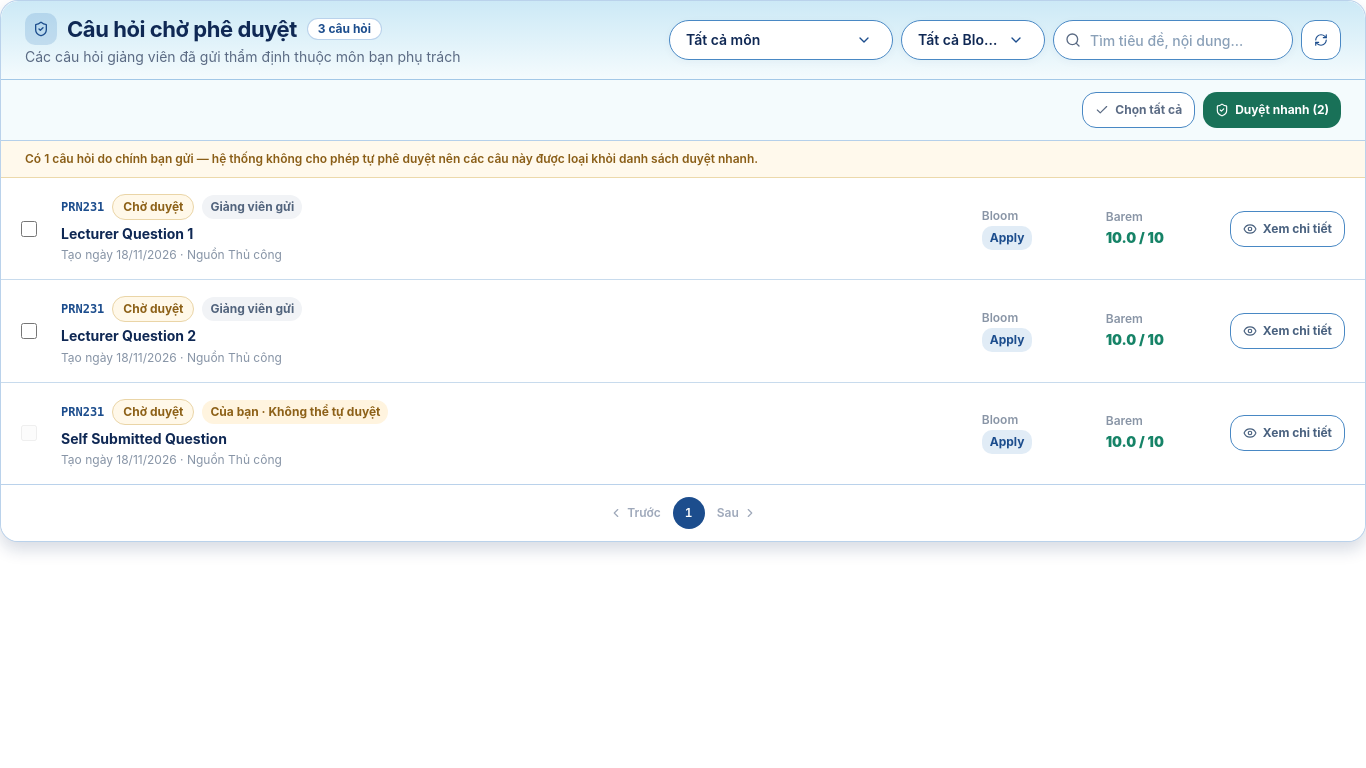
Test: QuestionStudioPage review queue & batch approval › excludes self-submitted questions from batch approve and disables self-approval in row & detail drawer
The width and height of the screenshot is (1366, 768).
Expected: the button "Duyệt nhanh (2)" is enabled, left=1203, top=92, right=1341, bottom=128
Expected: the checkbox named "Chọn câu hỏi Lecturer Question 1" is enabled, left=21, top=221, right=37, bottom=237
Click the heading "Self Submitted Question" at (144, 438), box left=61, top=430, right=227, bottom=446
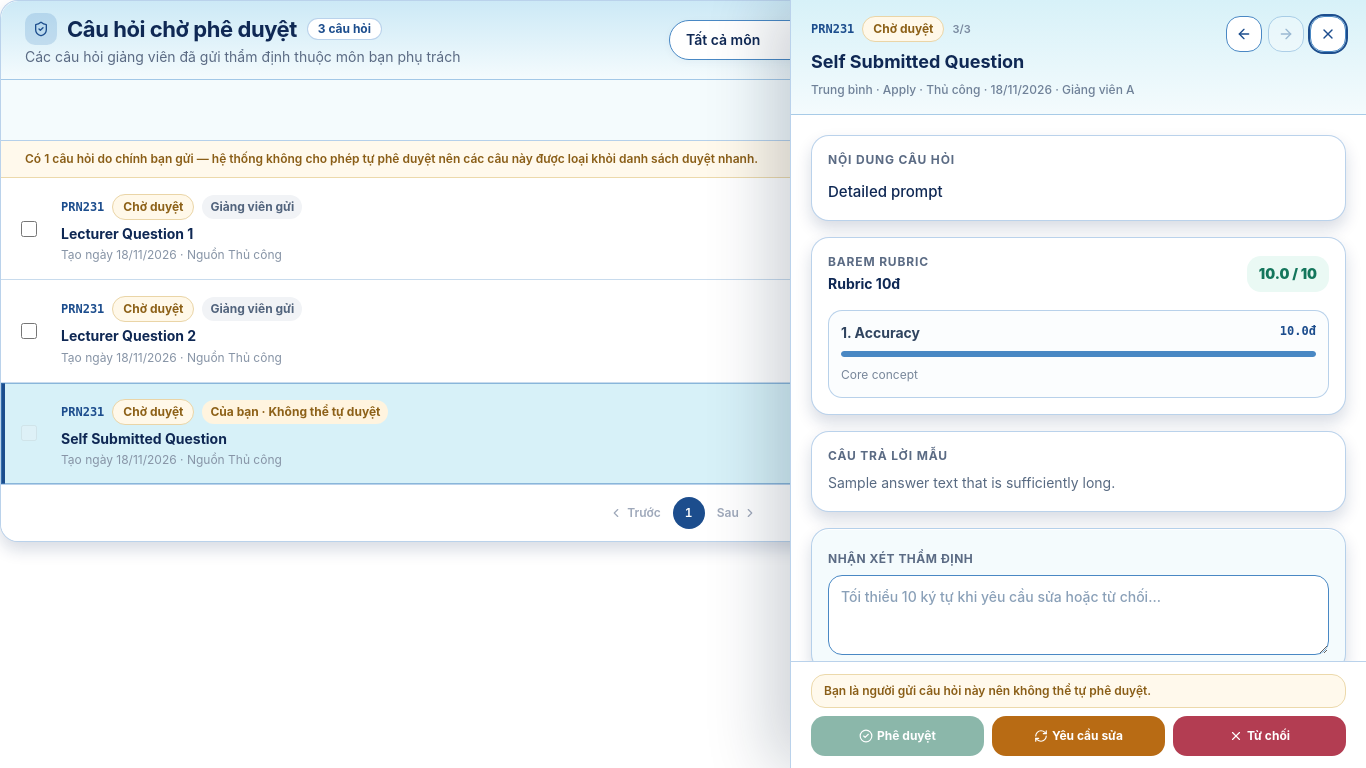
Now the text "Bạn là người gửi câu hỏi này nên không thể tự phê duyệt." is shown, box left=811, top=674, right=1346, bottom=708
Now the button "Phê duyệt" is disabled, box left=811, top=716, right=984, bottom=756
Click the heading "Lecturer Question 1" at (127, 234), box left=61, top=225, right=193, bottom=242
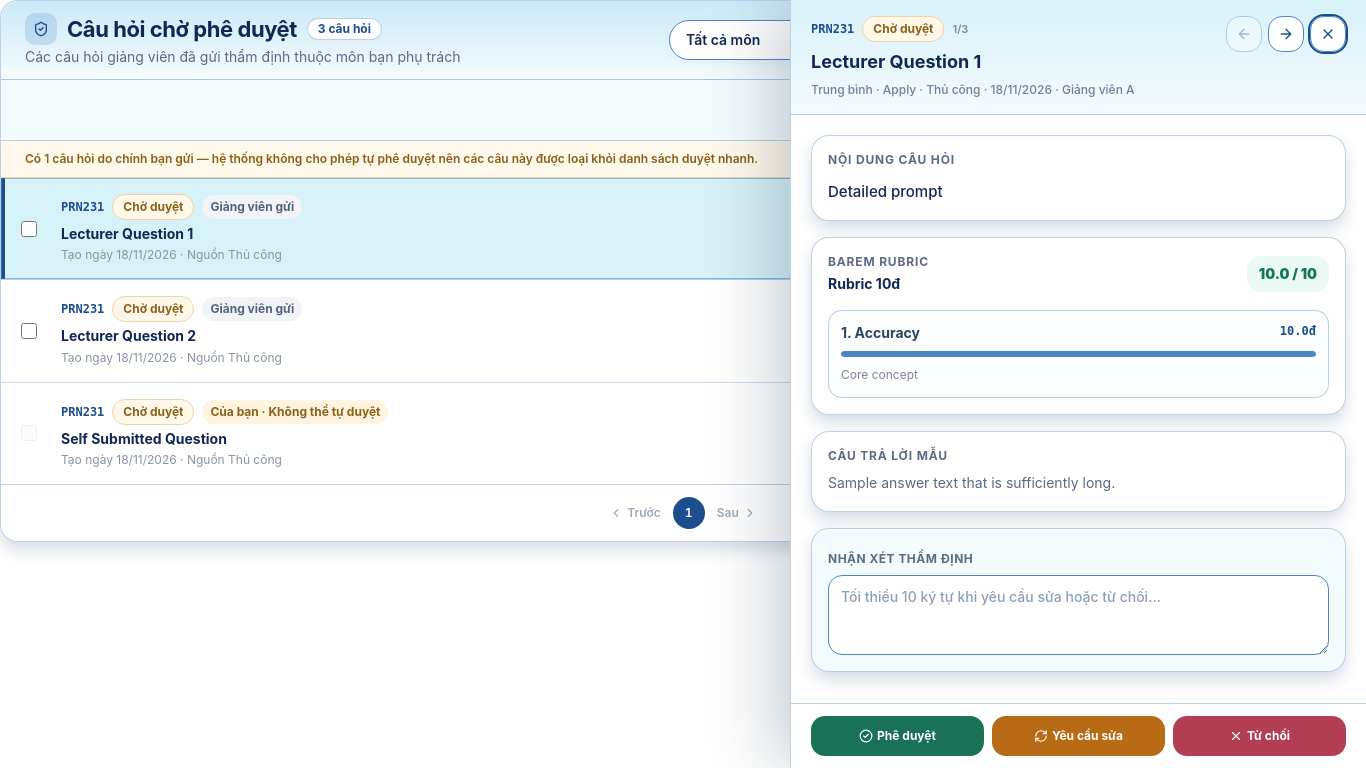
Now the button "Phê duyệt" is enabled, box left=811, top=716, right=984, bottom=756
